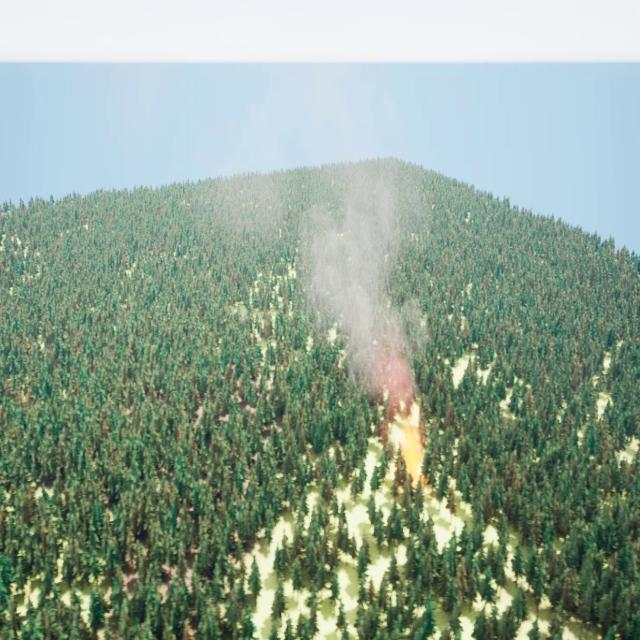fire: (400, 420, 427, 490)
smoke: (294, 147, 430, 411)
